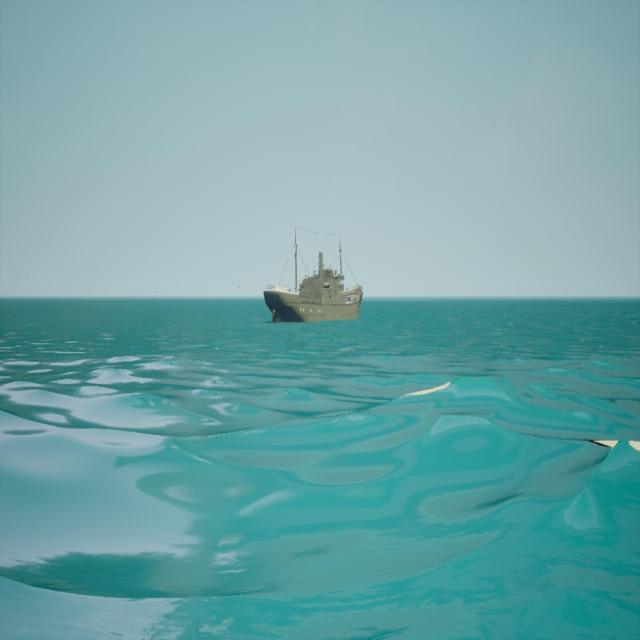fishing ship: (263, 227, 365, 324)
